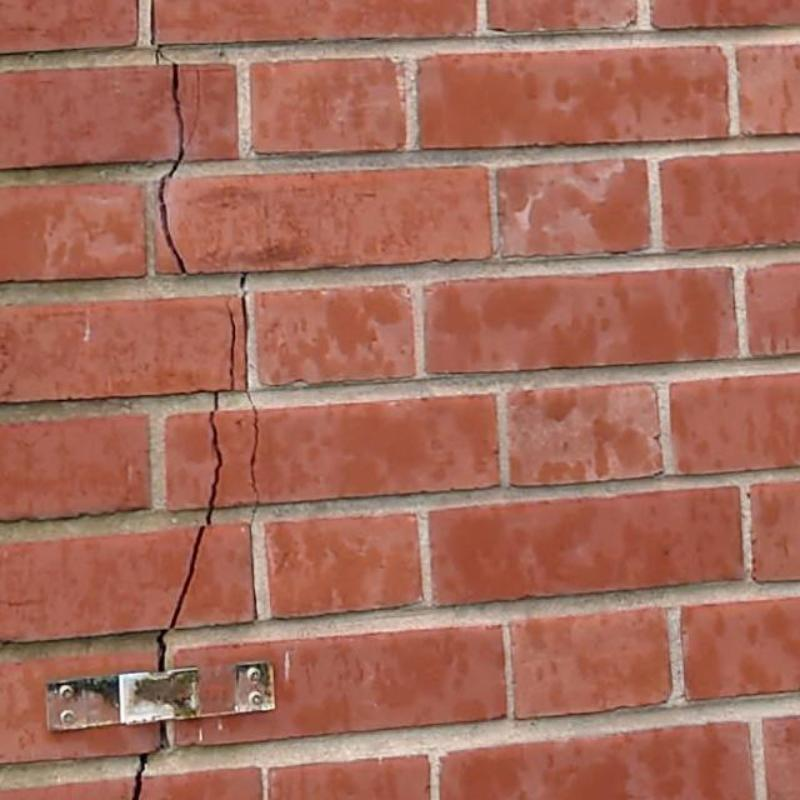pothole: (172, 392, 222, 628), (155, 45, 200, 202), (239, 273, 260, 530), (160, 205, 187, 274), (224, 301, 235, 392), (131, 755, 147, 799), (158, 631, 166, 672), (159, 722, 169, 748), (151, 0, 155, 47)
